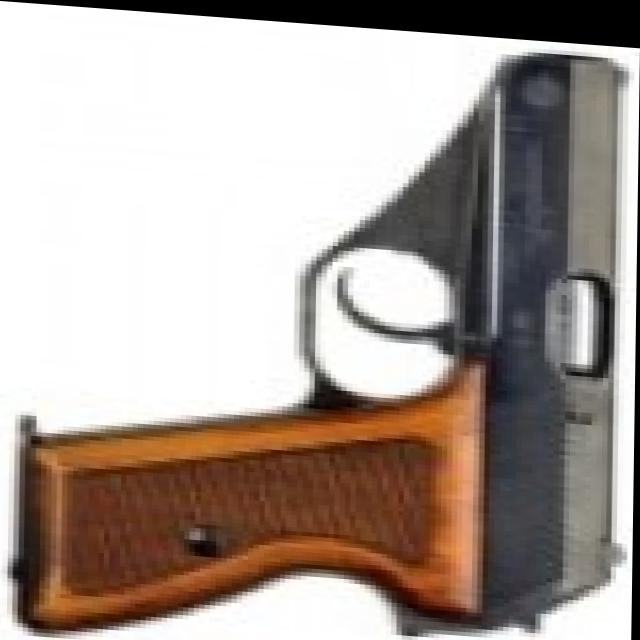handgun: (25, 10, 640, 640)
